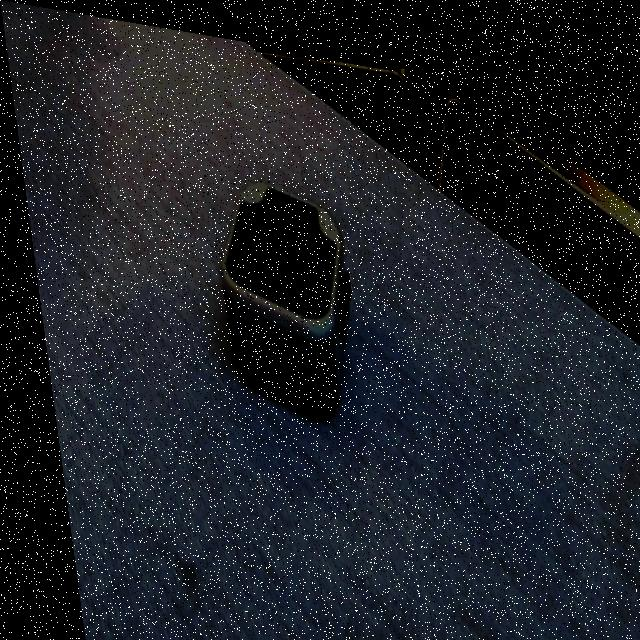adapter: (200, 164, 359, 418)
